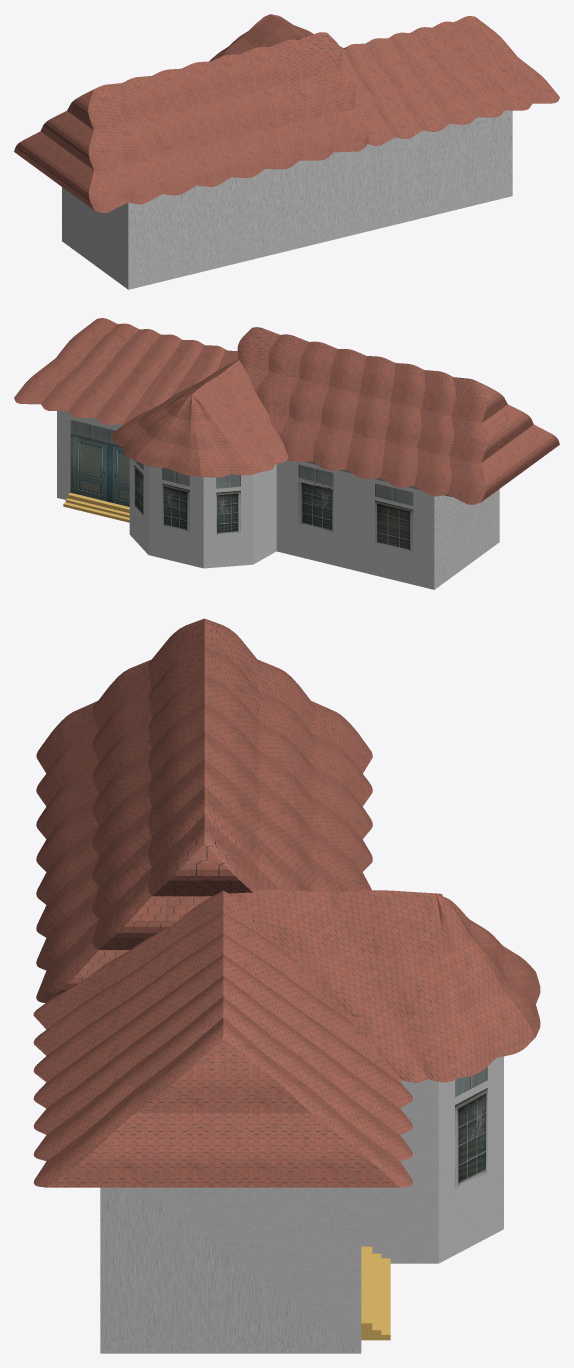
Rendered from Rumah Belanda (1).fbx.
3 views of the same model, one above another, from view 1: azimuth 30°, elevation 25°; view 2: azimuth 150°, elevation 25°; view 3: azimuth 270°, elevation 25° (orthographic). The views are drawn at different scales.
Parts seen in each view (by area): view 1: Cube.001, Cube; view 2: Cube.001, Cube; view 3: Cube.001, Cube.
Boxes of the visible parts, x1,y1,x2,y2 form: Cube.001: (14, 14, 559, 212); Cube: (62, 110, 512, 289); Cube.001: (14, 318, 559, 504); Cube: (57, 411, 499, 589); Cube.001: (33, 618, 540, 1187); Cube: (100, 1017, 503, 1353).
Bounding box in the file's own units: 1600 × 606 × 766.
6 materials, 5 textured.
